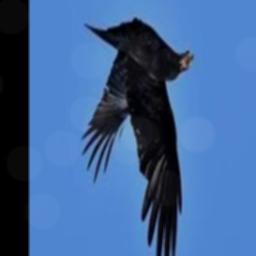Crow: (83, 20, 193, 256)
